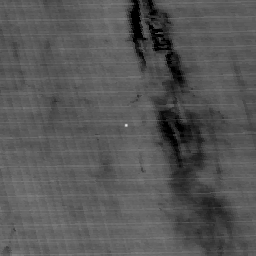Target: (123, 122, 129, 128)
